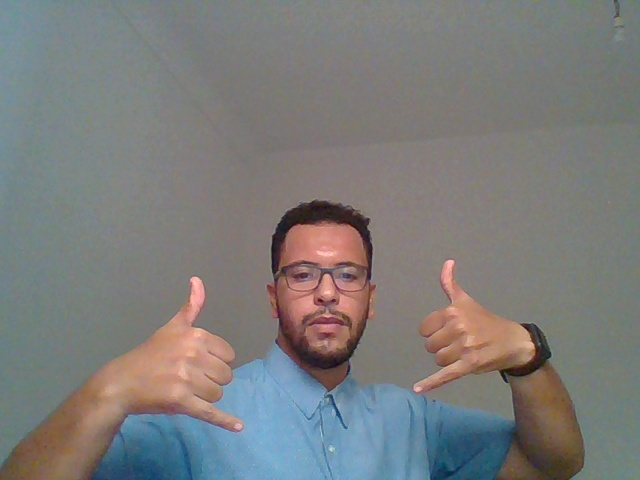callme: (53, 205, 253, 455), (399, 239, 569, 452)
